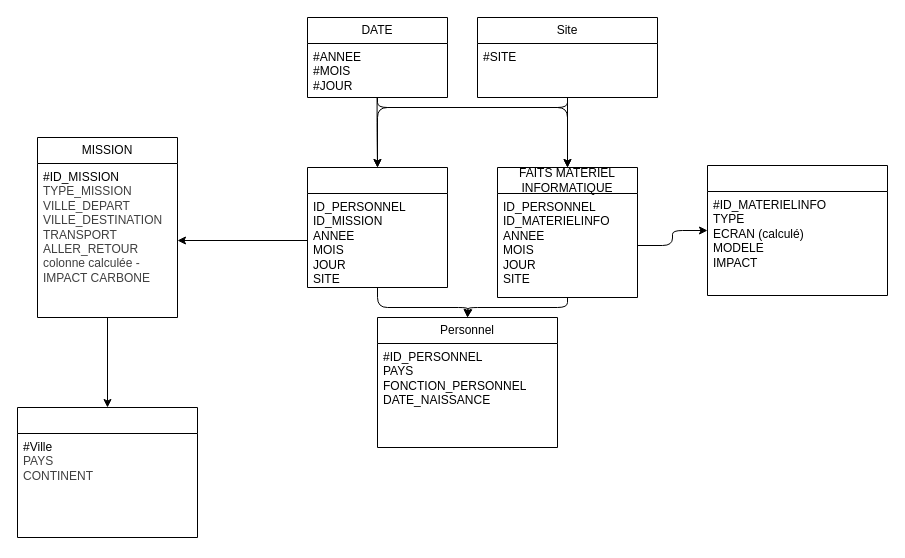
The diagram is 905 pixels wide and 558 high, and some of its shapes have lost their labels. The shapes that lost their labels are listed below. From the top down, each one's box as (x1, y1, x2, y2) in pixels, then its label:
(306, 166, 448, 288): FAITS MISSION
(706, 164, 888, 296): MATERIEL INFORMATIQUE
(16, 406, 198, 538): Localisation
